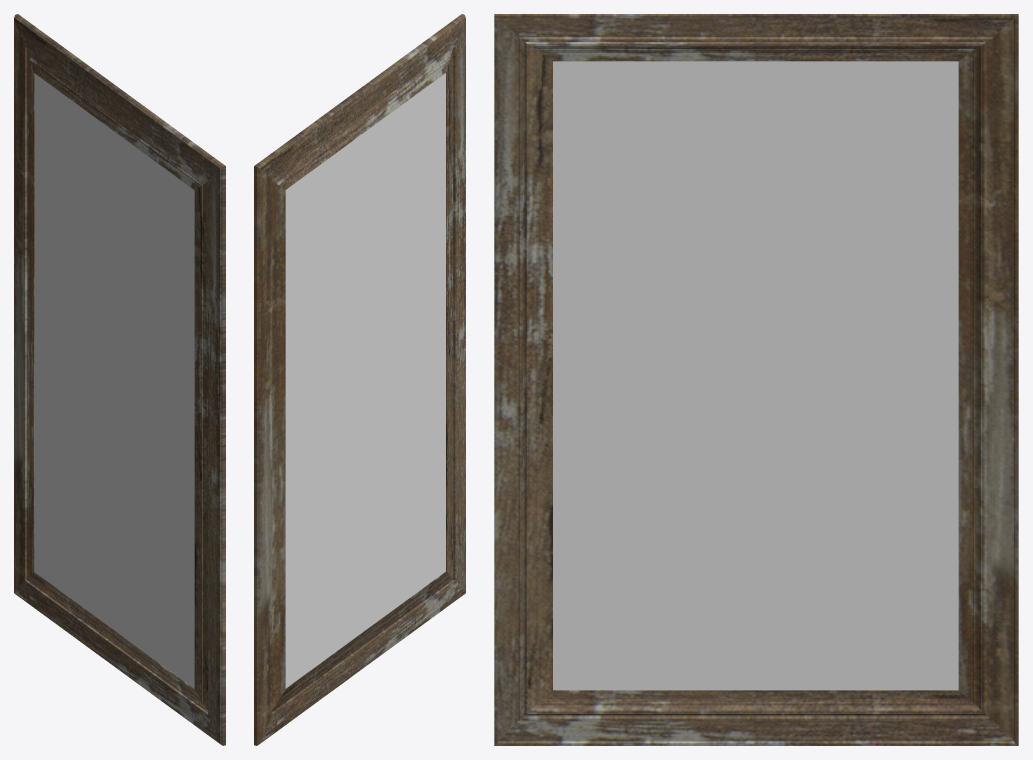
Rendered from mirror8.obj.
3 views of the same model, side by side, from view 1: azimuth 30°, elevation 25°; view 2: azimuth 150°, elevation 25°; view 3: azimuth 270°, elevation 25° (orthographic). The views are drawn at different scales.
Visible parts, largest first — view 1: Line04, picture_01; view 2: Line04, picture_01; view 3: Line04, picture_01.
Boxes of the visible parts, bbox=[...] form: Line04: bbox=[34, 73, 194, 688]; picture_01: bbox=[14, 14, 225, 745]; Line04: bbox=[285, 73, 445, 688]; picture_01: bbox=[254, 14, 465, 745]; Line04: bbox=[553, 61, 958, 690]; picture_01: bbox=[494, 14, 1018, 745].
Size of the model in its own units: 1.94 by 134 by 86.89.
2 materials, 1 textured.
